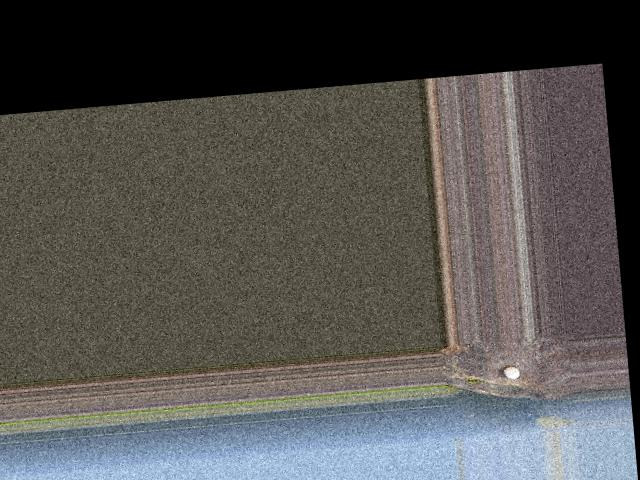egg: (504, 365, 521, 379)
